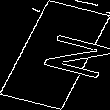N_W: (11, 28, 99, 82)
